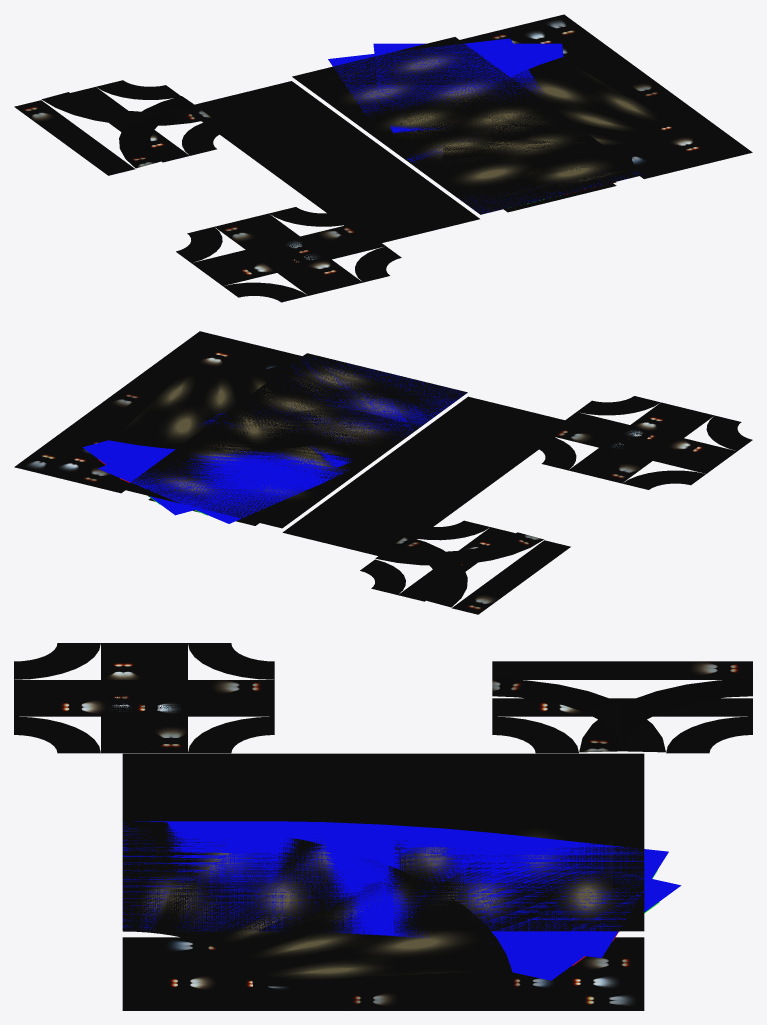
File: LN3D_Modular_Skyscraper_RoadFakeLight.fbx
The picture shows the model from 3 angles, top to bottom: view 1: azimuth 30°, elevation 25°; view 2: azimuth 150°, elevation 25°; view 3: azimuth 270°, elevation 25°; orthographic projection. The views are drawn at different scales.
Visible parts, largest first — view 1: LN3D_Modular_Skyscraper_RoadFakeLight_Line, LN3D_Modular_Skyscraper_RoadFakeLight_Line.001, LN3D_Modular_Skyscraper_RoadFakeLight_Quad, LN3D_Modular_Skyscraper_RoadFakeLight_Trun90, LN3D_Modular_Skyscraper_RoadFakeLight_Tree, LN3D_Modular_Skyscraper_RoadFakeLight_Bend15, LN3D_Modular_Skyscraper_RoadFakeLight_LineHalf, LN3D_Modular_Skyscraper_RoadFakeLight_Bend30; view 2: LN3D_Modular_Skyscraper_RoadFakeLight_Line.001, LN3D_Modular_Skyscraper_RoadFakeLight_Line, LN3D_Modular_Skyscraper_RoadFakeLight_Trun90, LN3D_Modular_Skyscraper_RoadFakeLight_Bend15, LN3D_Modular_Skyscraper_RoadFakeLight_Quad, LN3D_Modular_Skyscraper_RoadFakeLight_Tree, LN3D_Modular_Skyscraper_RoadFakeLight_LineHalf, LN3D_Modular_Skyscraper_RoadFakeLight_Bend30; view 3: LN3D_Modular_Skyscraper_RoadFakeLight_Line.001, LN3D_Modular_Skyscraper_RoadFakeLight_Line, LN3D_Modular_Skyscraper_RoadFakeLight_Bend15, LN3D_Modular_Skyscraper_RoadFakeLight_Trun90, LN3D_Modular_Skyscraper_RoadFakeLight_Quad, LN3D_Modular_Skyscraper_RoadFakeLight_Tree, LN3D_Modular_Skyscraper_RoadFakeLight_Bend30, LN3D_Modular_Skyscraper_RoadFakeLight_LineHalf.
Boxes of the visible parts, left/top/right/bottom form: LN3D_Modular_Skyscraper_RoadFakeLight_Line: left=292, top=37, right=643, bottom=214; LN3D_Modular_Skyscraper_RoadFakeLight_Line.001: left=195, top=14, right=752, bottom=242; LN3D_Modular_Skyscraper_RoadFakeLight_Quad: left=176, top=207, right=401, bottom=302; LN3D_Modular_Skyscraper_RoadFakeLight_Trun90: left=442, top=51, right=677, bottom=214; LN3D_Modular_Skyscraper_RoadFakeLight_Tree: left=14, top=80, right=228, bottom=175; LN3D_Modular_Skyscraper_RoadFakeLight_Bend15: left=328, top=38, right=641, bottom=213; LN3D_Modular_Skyscraper_RoadFakeLight_LineHalf: left=386, top=76, right=548, bottom=179; LN3D_Modular_Skyscraper_RoadFakeLight_Bend30: left=373, top=43, right=563, bottom=133; LN3D_Modular_Skyscraper_RoadFakeLight_Line.001: left=14, top=331, right=564, bottom=555; LN3D_Modular_Skyscraper_RoadFakeLight_Line: left=121, top=353, right=467, bottom=528; LN3D_Modular_Skyscraper_RoadFakeLight_Trun90: left=87, top=353, right=466, bottom=450; LN3D_Modular_Skyscraper_RoadFakeLight_Bend15: left=98, top=358, right=466, bottom=523; LN3D_Modular_Skyscraper_RoadFakeLight_Quad: left=530, top=396, right=752, bottom=489; LN3D_Modular_Skyscraper_RoadFakeLight_Tree: left=360, top=520, right=570, bottom=614; LN3D_Modular_Skyscraper_RoadFakeLight_LineHalf: left=169, top=407, right=420, bottom=460; LN3D_Modular_Skyscraper_RoadFakeLight_Bend30: left=83, top=440, right=353, bottom=515; LN3D_Modular_Skyscraper_RoadFakeLight_Line.001: left=122, top=753, right=644, bottom=1010; LN3D_Modular_Skyscraper_RoadFakeLight_Line: left=122, top=821, right=644, bottom=931; LN3D_Modular_Skyscraper_RoadFakeLight_Bend15: left=122, top=821, right=668, bottom=957; LN3D_Modular_Skyscraper_RoadFakeLight_Trun90: left=122, top=821, right=513, bottom=987; LN3D_Modular_Skyscraper_RoadFakeLight_Quad: left=14, top=643, right=274, bottom=753; LN3D_Modular_Skyscraper_RoadFakeLight_Tree: left=492, top=661, right=752, bottom=753; LN3D_Modular_Skyscraper_RoadFakeLight_Bend30: left=397, top=834, right=681, bottom=980; LN3D_Modular_Skyscraper_RoadFakeLight_LineHalf: left=265, top=821, right=513, bottom=931.
Size of the model in its own units: 7900 by 70 by 6800.
1 material, 1 textured.
